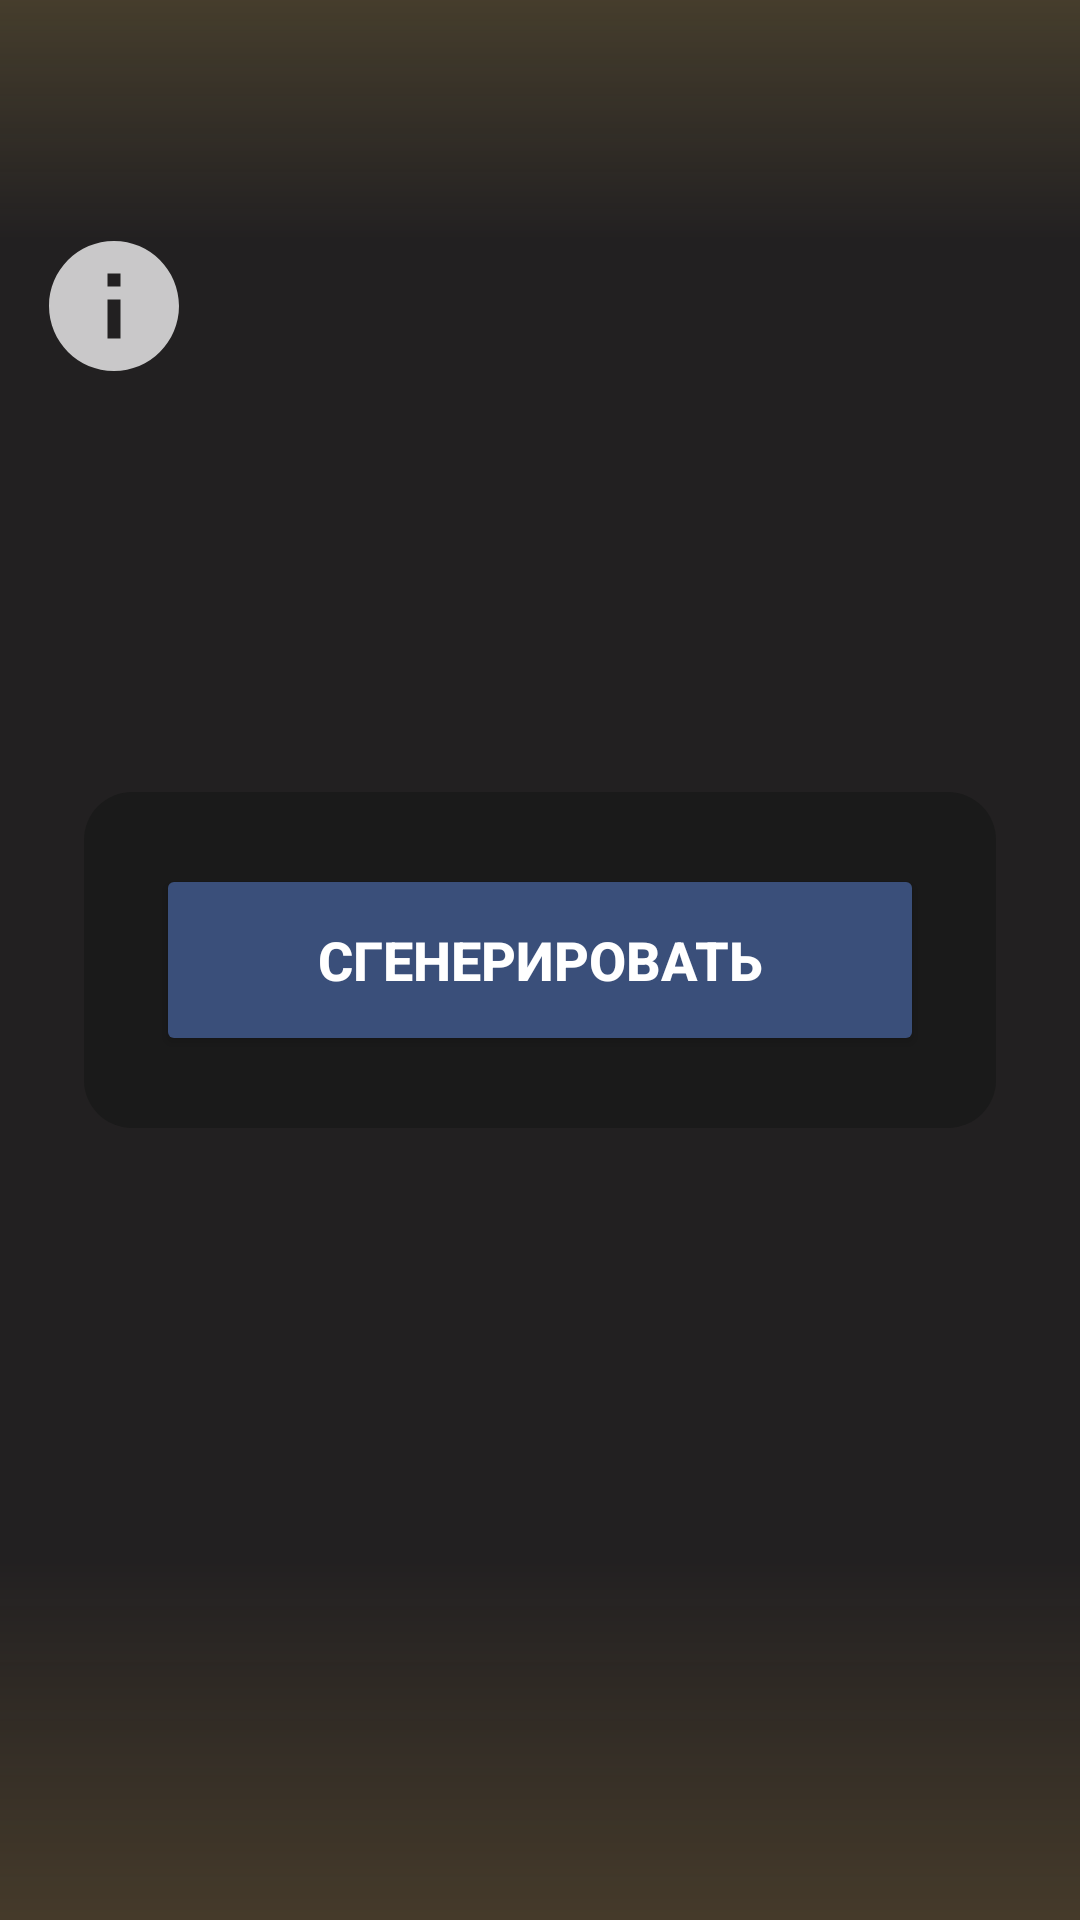

Icons on this 1080×1920 Android screen, each with the point to tap as (x=x, y=y):
Инфо: (x=114, y=306)
